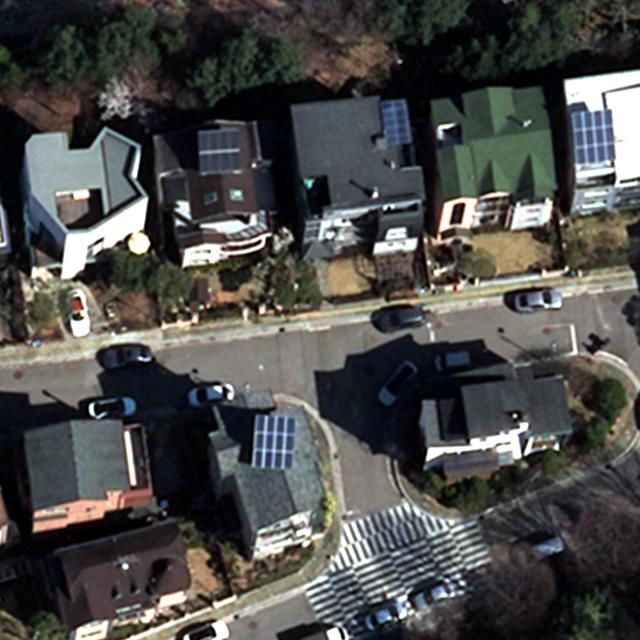solarpanel: (570, 108, 619, 167), (249, 413, 297, 471), (194, 125, 245, 178)
